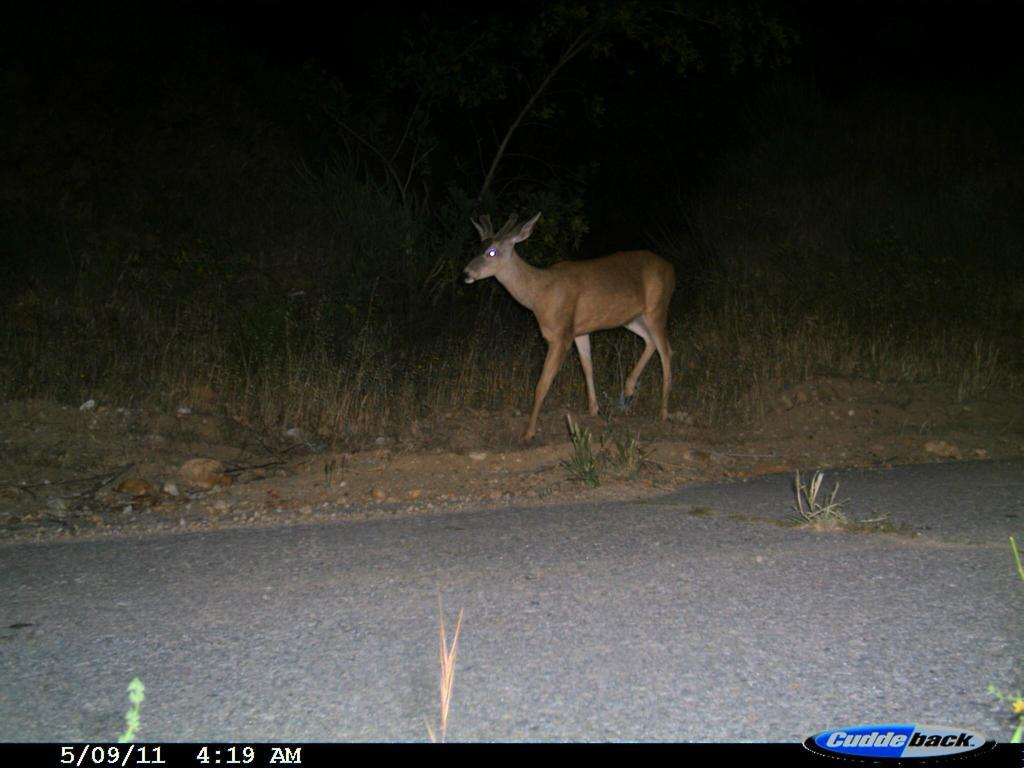deer: (455, 199, 699, 451)
